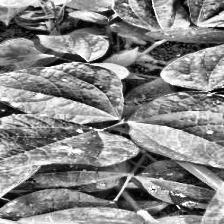Bean Rust: (130, 88, 224, 182), (0, 64, 125, 118), (0, 122, 120, 176), (164, 38, 224, 92), (0, 188, 62, 224)
